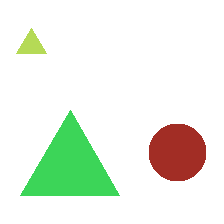circle: (149, 124, 205, 180)
triangle: (20, 110, 119, 195), (16, 28, 46, 53)
